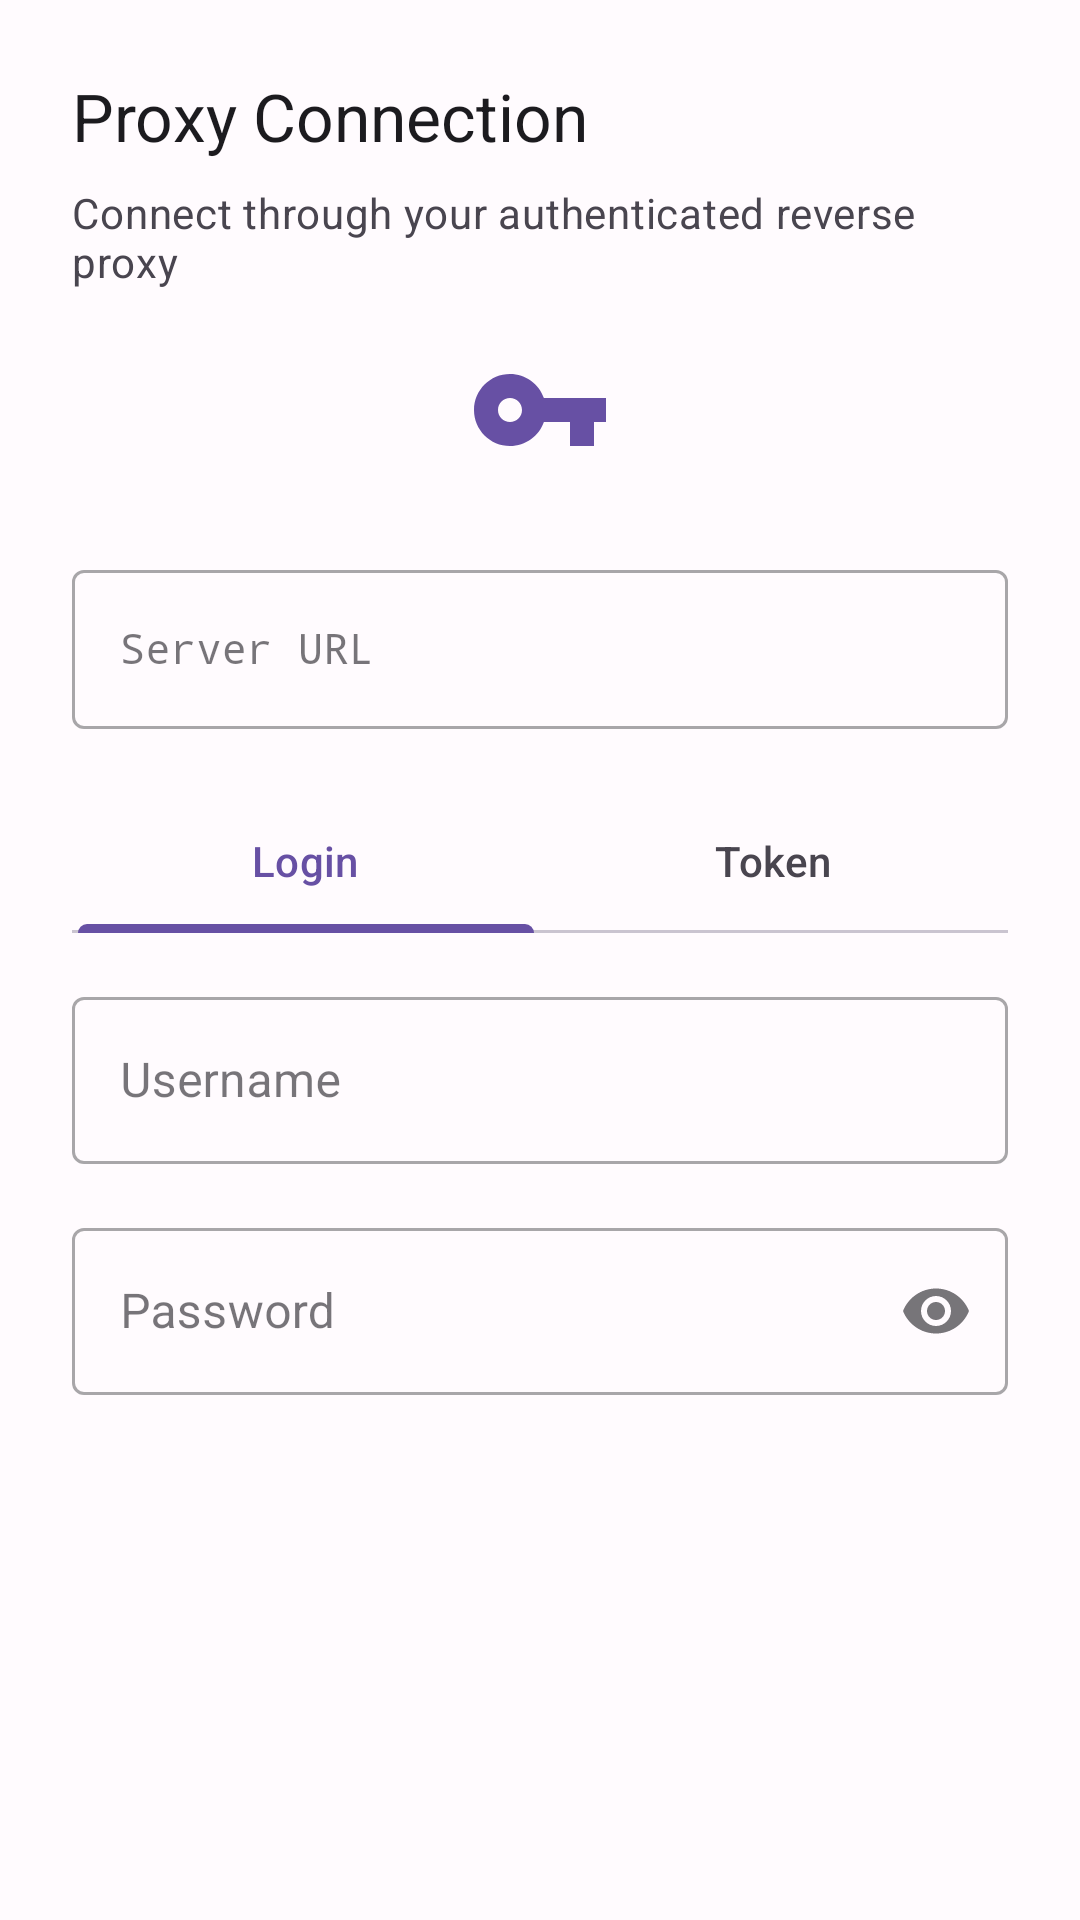

Screen size 1080px×1920px. Icon name, then its center in pixels as point (x, y):
vpn key: point (540, 410)
